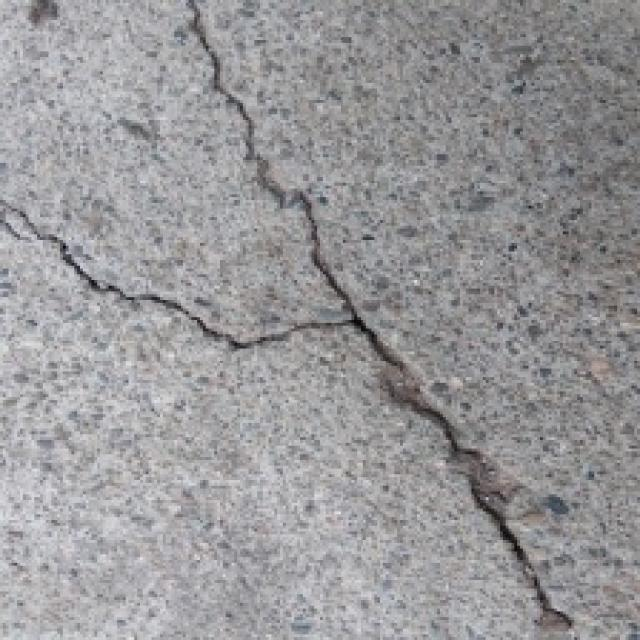crack: (154, 0, 598, 640), (0, 170, 396, 378)
